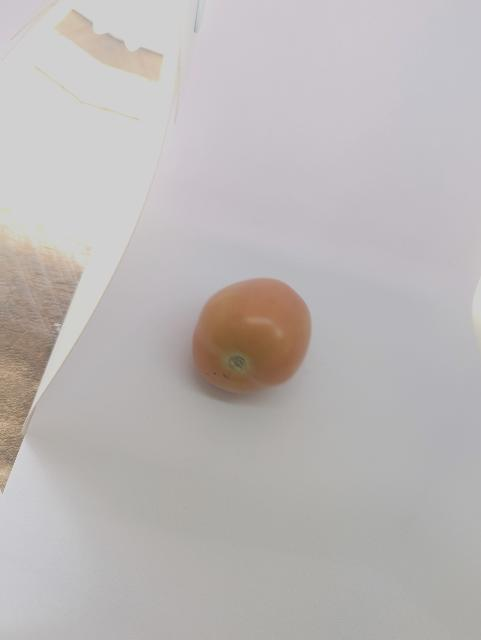turning: (184, 271, 324, 404)
